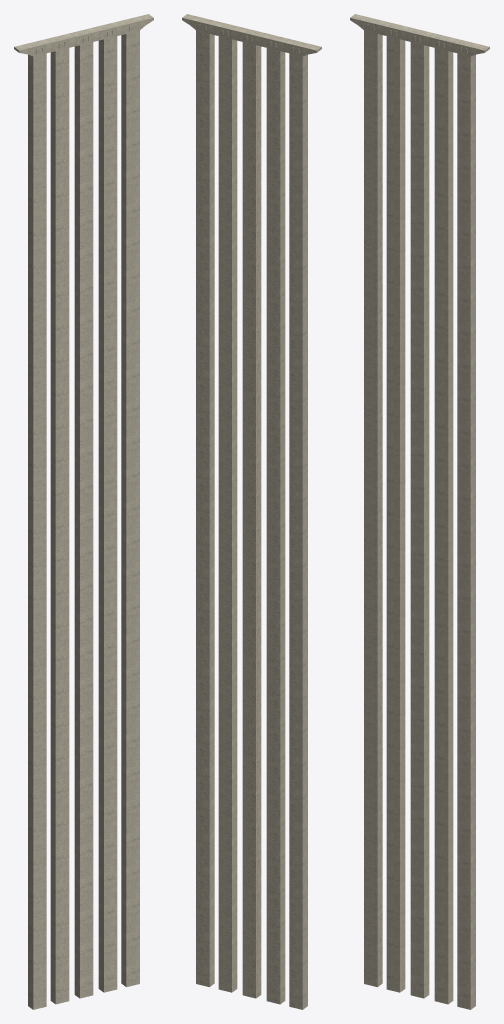
The model's file is BridgePillar3-4L.FBX.
The picture shows the model from 3 angles, left to right: view 1: azimuth 30°, elevation 25°; view 2: azimuth 150°, elevation 25°; view 3: azimuth 330°, elevation 25°; orthographic projection.
Parts seen in each view (by area): view 1: BridgePillar-4L; view 2: BridgePillar-4L; view 3: BridgePillar-4L.
Part boxes in pixels (<box>): BridgePillar-4L: <box>14,14,153,1009</box>; BridgePillar-4L: <box>182,14,321,1009</box>; BridgePillar-4L: <box>350,14,489,1009</box>.
Size of the model in its own units: 30 by 205 by 2.25.
